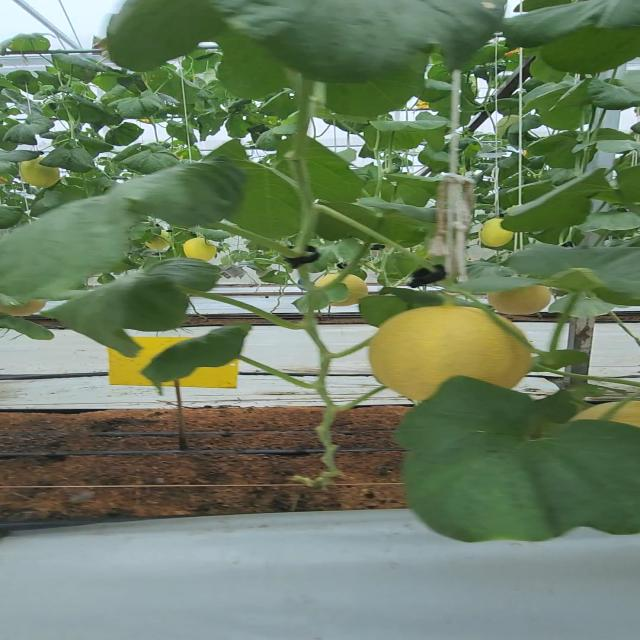Melon: (369, 304, 531, 396)
